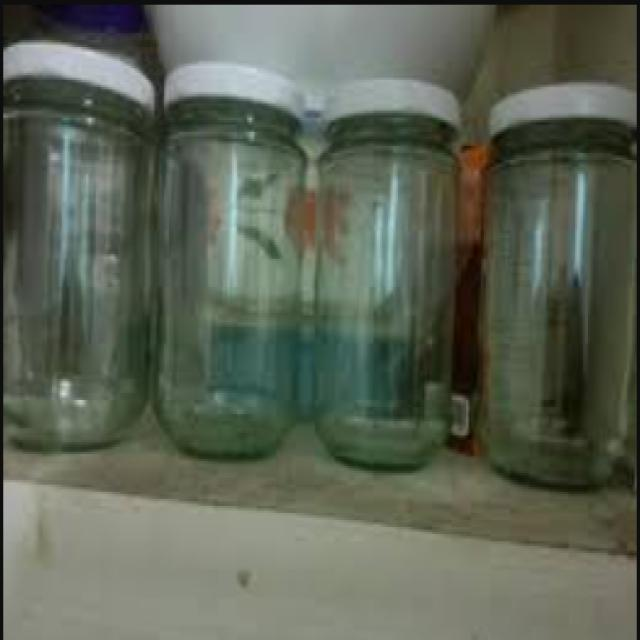ToplesKaca: (483, 73, 640, 491), (1, 43, 154, 449), (317, 61, 461, 472), (163, 54, 303, 475)
